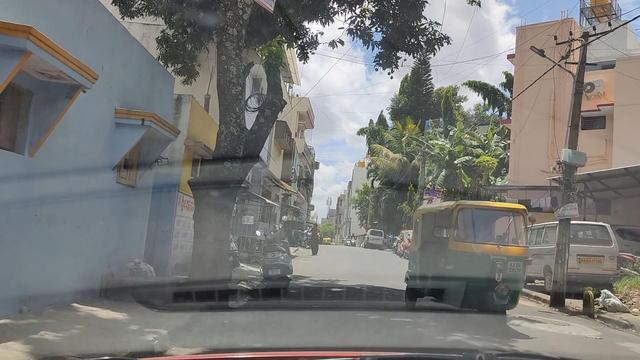LMV: (410, 203, 525, 318)
RoadDamages: (516, 312, 596, 337)
